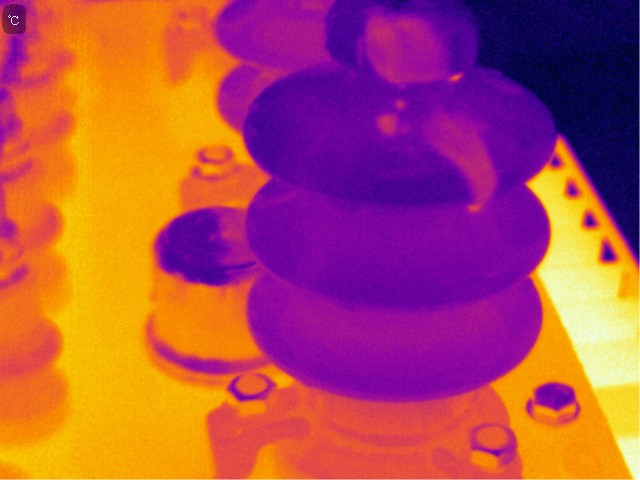Oil: (413, 108, 508, 219), (359, 10, 472, 89), (373, 111, 405, 140), (391, 98, 409, 112)
